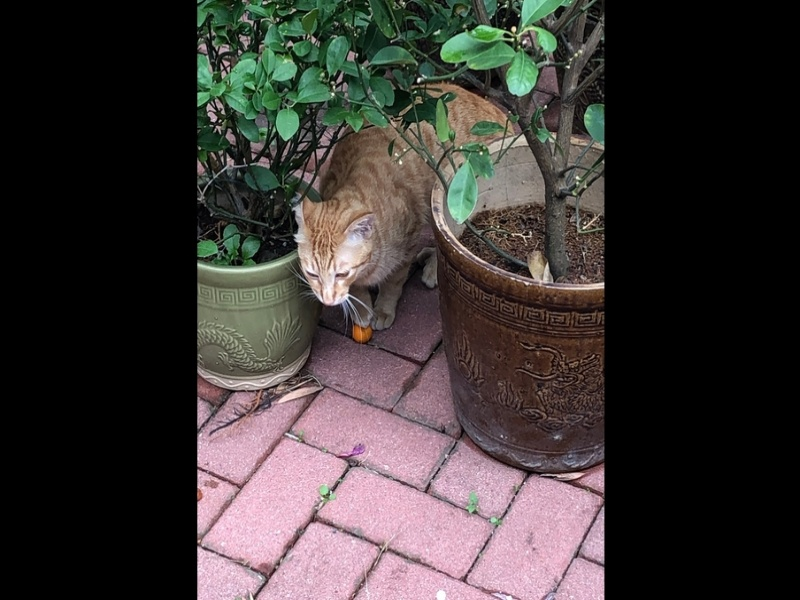cat: (294, 80, 516, 348)
